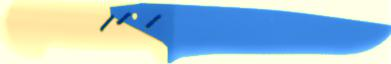Knife: (5, 1, 391, 64)
